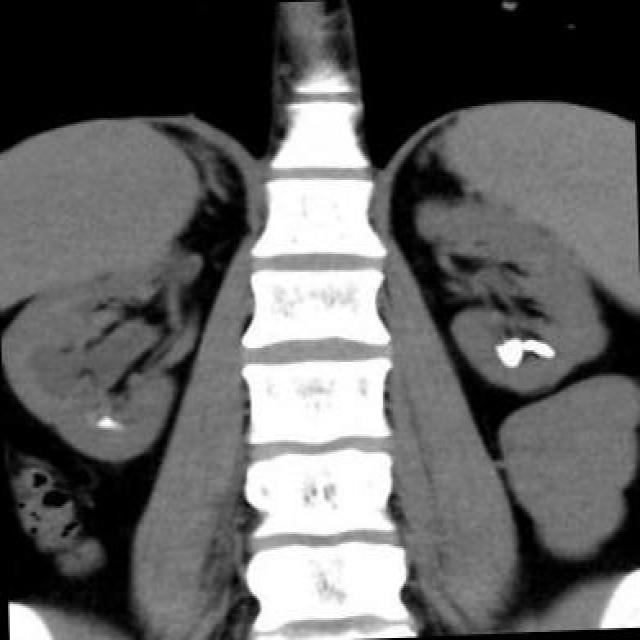Tas_Var: (489, 335, 523, 371), (522, 334, 557, 362), (95, 414, 115, 430)
